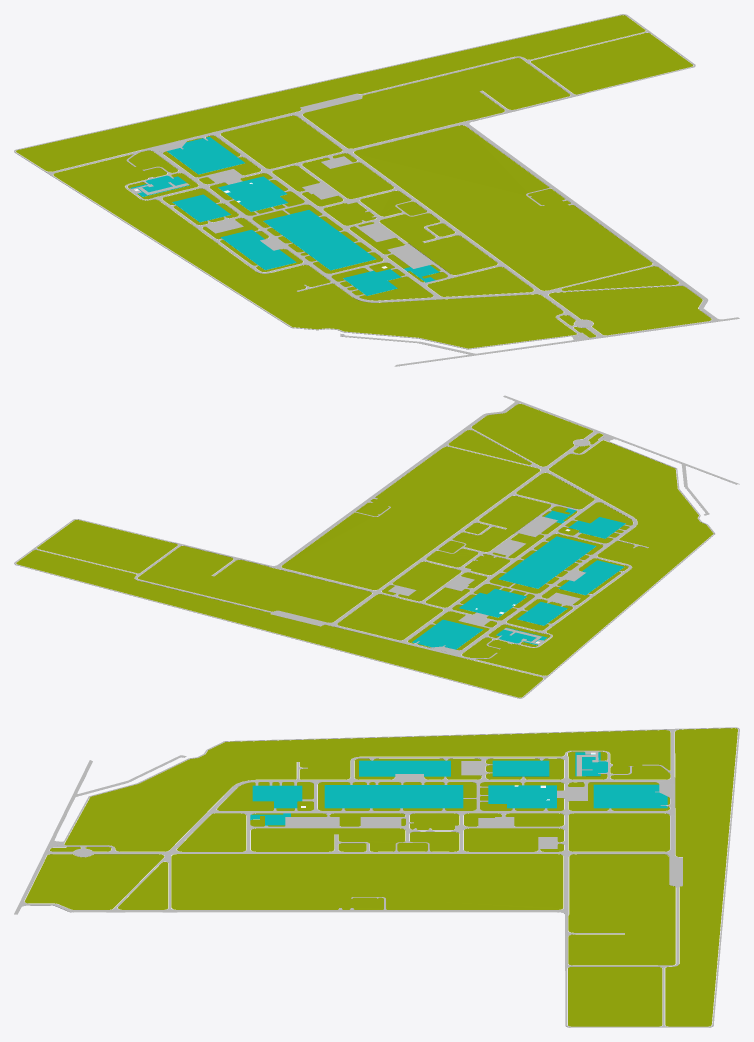
Rendered from _GEN_3D.glb.
3 renders of one model, top to bottom at view 1: azimuth 30°, elevation 25°; view 2: azimuth 150°, elevation 25°; view 3: azimuth 270°, elevation 25°, orthographic. The views are drawn at different scales.
Size of the model in its own units: 1452 by 1.63 by 1483.
